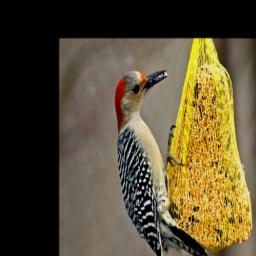Woodpecker: (100, 60, 218, 256)
